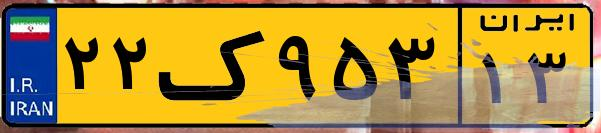1: (475, 38, 525, 113)
2: (57, 26, 110, 100), (110, 28, 158, 98)
3: (385, 28, 445, 110), (525, 38, 570, 115)
5: (330, 28, 385, 110)
9: (270, 28, 330, 110)
ک: (158, 12, 270, 120)
